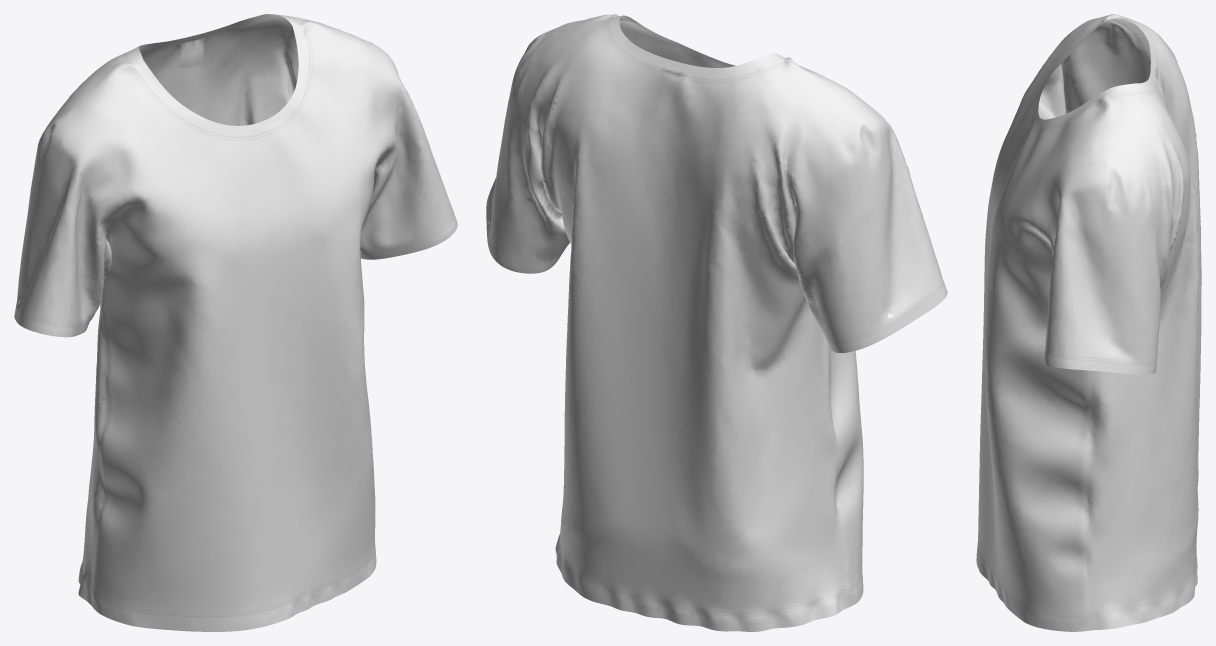
The model's file is T-shirt STRAYA.gltf.
3 renders of one model, left to right at view 1: azimuth 30°, elevation 25°; view 2: azimuth 150°, elevation 25°; view 3: azimuth 270°, elevation 25°, orthographic. The views are drawn at different scales.
Parts seen in each view (by area): view 1: 42, 12, 39.001, 38, Pattern2D_2706878, 43, 13, 37, 39; view 2: 12, 39.001, 38, 42, Pattern2D_2706879, 13, 39, 37, 43; view 3: 42, 12, 38, 39.001, Pattern2D_2706879, Pattern2D_2706878, 37, 43, 13.
Boxes of the visible parts, bbox=[...] form: 42: bbox=[52, 25, 401, 617]; 12: bbox=[44, 15, 373, 592]; 39.001: bbox=[16, 131, 112, 327]; 38: bbox=[360, 60, 454, 253]; Pattern2D_2706878: bbox=[93, 550, 376, 631]; 43: bbox=[133, 25, 309, 136]; 13: bbox=[127, 14, 302, 64]; 37: bbox=[360, 215, 457, 259]; 39: bbox=[14, 307, 89, 337]; 12: bbox=[518, 14, 872, 616]; 39.001: bbox=[793, 123, 944, 344]; 38: bbox=[489, 44, 569, 266]; 42: bbox=[541, 19, 890, 591]; Pattern2D_2706879: bbox=[555, 534, 849, 631]; 13: bbox=[609, 14, 788, 79]; 39: bbox=[826, 284, 947, 352]; 37: bbox=[486, 191, 562, 273]; 43: bbox=[620, 16, 783, 67]; 42: bbox=[977, 15, 1107, 617]; 12: bbox=[1082, 14, 1201, 616]; 38: bbox=[1044, 181, 1170, 365]; 39.001: bbox=[1048, 26, 1150, 116]; Pattern2D_2706879: bbox=[1084, 547, 1197, 630]; Pattern2D_2706878: bbox=[976, 545, 1085, 631]; 37: bbox=[1044, 355, 1156, 374]; 43: bbox=[1033, 17, 1107, 129]; 13: bbox=[1103, 16, 1156, 97].
Bounding box in the file's own units: 0.5629 × 0.6665 × 0.2618.
11 materials, 11 textured.
